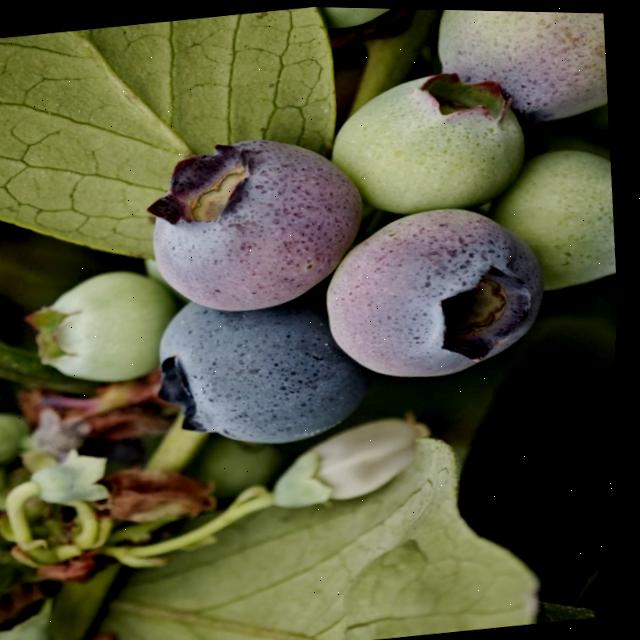RipeBlueBerry: (149, 278, 375, 456)
Semi-RipeBlueBerry: (318, 192, 561, 391), (140, 123, 378, 323)
UnripeBlueBerry: (25, 266, 178, 395)
